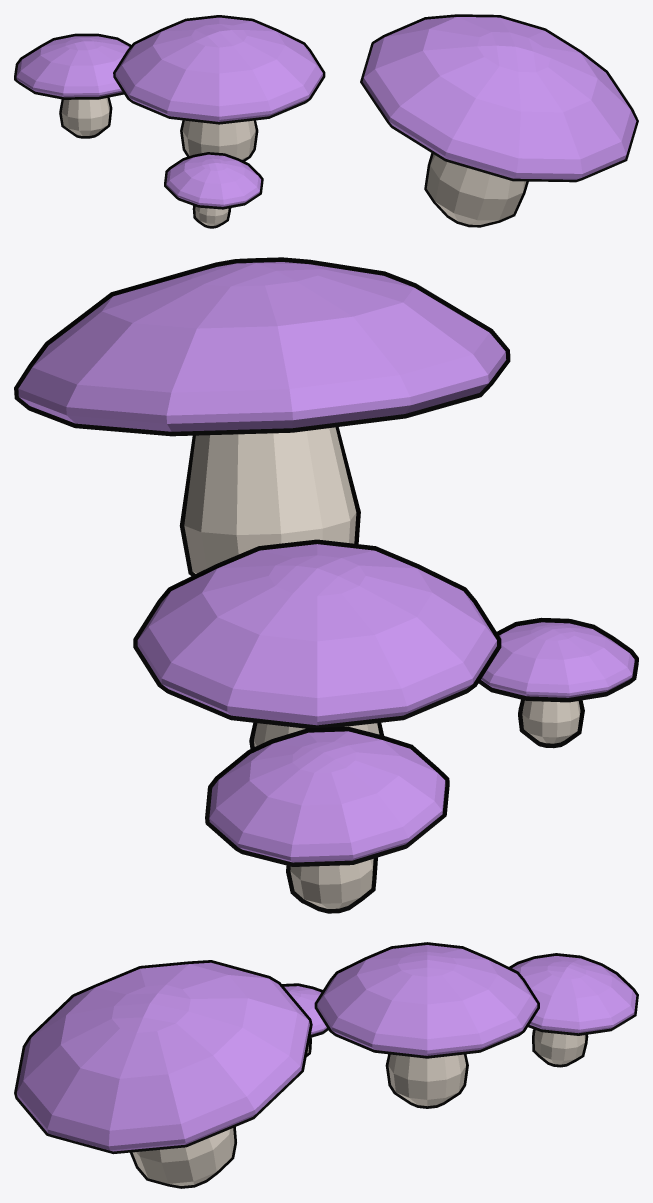
The model's file is shroom_1_ensemble.fbx.
3 views of the same model, one above another, from view 1: azimuth 30°, elevation 25°; view 2: azimuth 150°, elevation 25°; view 3: azimuth 270°, elevation 25° (orthographic). The views are drawn at different scales.
Parts seen in each view (by area): view 1: shroom_1_ensemble, shroom_1_ensemble_outliner; view 2: shroom_1_ensemble, shroom_1_ensemble_outliner; view 3: shroom_1_ensemble, shroom_1_ensemble_outliner.
Boxes of the visible parts, left/top/right/bottom form: shroom_1_ensemble: left=16, top=17, right=636, bottom=225; shroom_1_ensemble_outliner: left=14, top=14, right=638, bottom=228; shroom_1_ensemble: left=18, top=262, right=634, bottom=908; shroom_1_ensemble_outliner: left=14, top=257, right=638, bottom=913; shroom_1_ensemble: left=17, top=945, right=636, bottom=1185; shroom_1_ensemble_outliner: left=14, top=942, right=638, bottom=1188.
Size of the model in its own units: 74.65 by 32.37 by 92.78.
